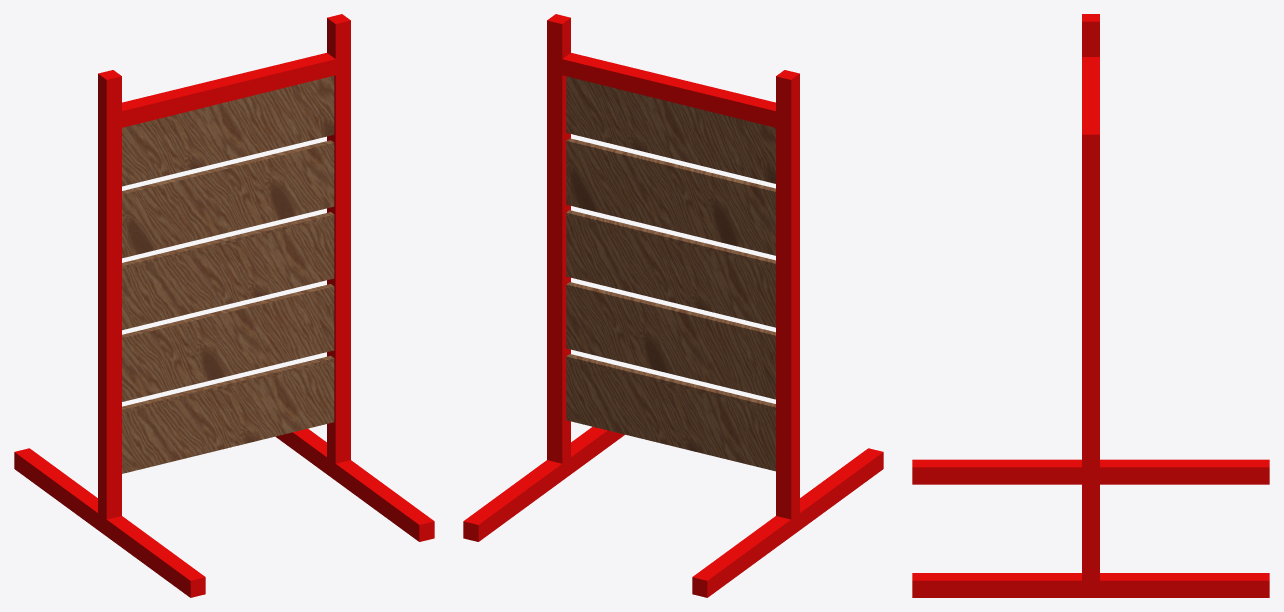
The model's file is palisade.glb.
The picture shows the model from 3 angles, left to right: view 1: azimuth 30°, elevation 25°; view 2: azimuth 150°, elevation 25°; view 3: azimuth 270°, elevation 25°; orthographic projection.
Parts seen in each view (by area): view 1: palisade; view 2: palisade; view 3: palisade.
Boxes of the visible parts, x1,y1,x2,y2 form: palisade: (14, 14, 434, 597); palisade: (463, 14, 883, 597); palisade: (912, 14, 1269, 597).
Size of the model in its own units: 1.6 by 2.86 by 2.
Materials: 1 (1 with a texture image).
